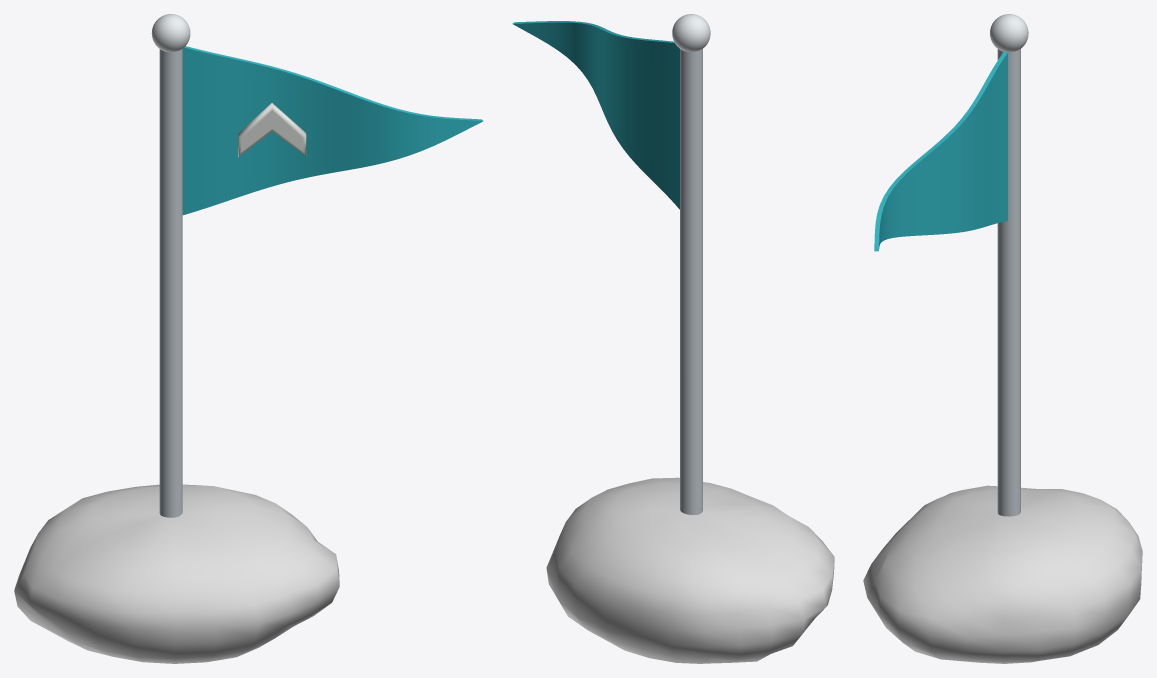
File: week-pennant.glb
The picture shows the model from 3 angles, left to right: view 1: azimuth 30°, elevation 25°; view 2: azimuth 150°, elevation 25°; view 3: azimuth 270°, elevation 25°; orthographic projection.
Visible parts, largest first — view 1: titan.pennant.rock, titan.pennant.cloth, titan.pennant.pole, titan.pennant.mark, titan.pennant.finial; view 2: titan.pennant.rock, titan.pennant.cloth, titan.pennant.pole, titan.pennant.finial; view 3: titan.pennant.rock, titan.pennant.cloth, titan.pennant.pole, titan.pennant.finial.
Boxes of the visible parts, <box> form: titan.pennant.rock: <box>14,484,339,663</box>; titan.pennant.cloth: <box>182,46,483,215</box>; titan.pennant.pole: <box>159,49,182,517</box>; titan.pennant.mark: <box>238,103,306,156</box>; titan.pennant.finial: <box>151,14,190,52</box>; titan.pennant.rock: <box>546,477,834,663</box>; titan.pennant.cloth: <box>512,21,679,209</box>; titan.pennant.pole: <box>680,49,702,514</box>; titan.pennant.finial: <box>672,14,710,51</box>; titan.pennant.rock: <box>863,485,1142,663</box>; titan.pennant.cloth: <box>874,52,1007,251</box>; titan.pennant.pole: <box>997,49,1020,516</box>; titan.pennant.finial: <box>990,14,1028,52</box>.
Size of the model in its own units: 1.15 by 1.78 by 0.7222.
